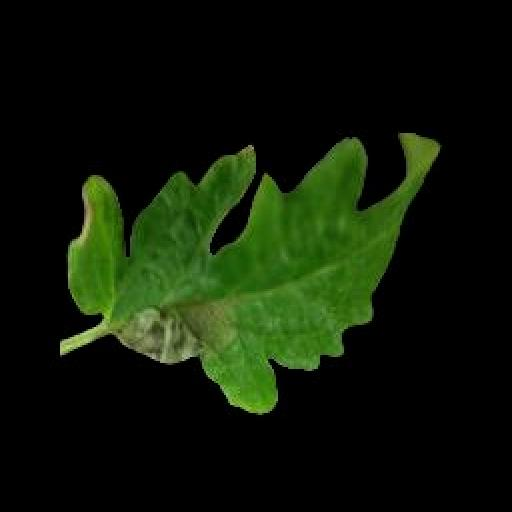disease_tomato: (66, 128, 442, 414)
